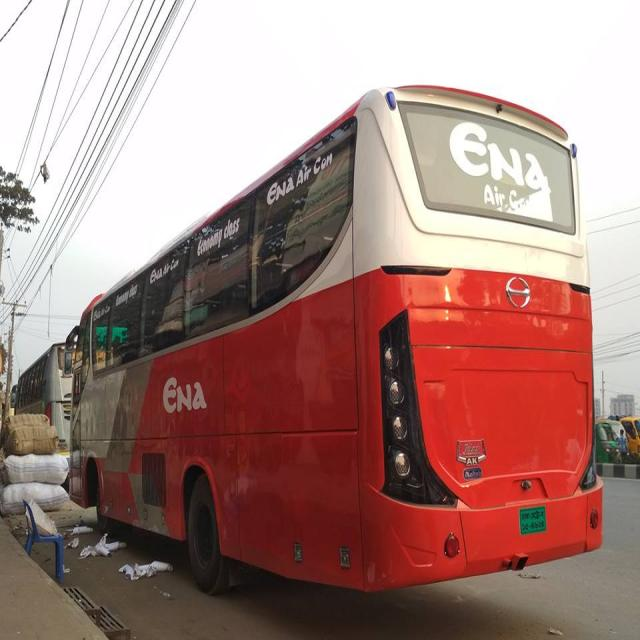bus: (63, 80, 608, 598)
